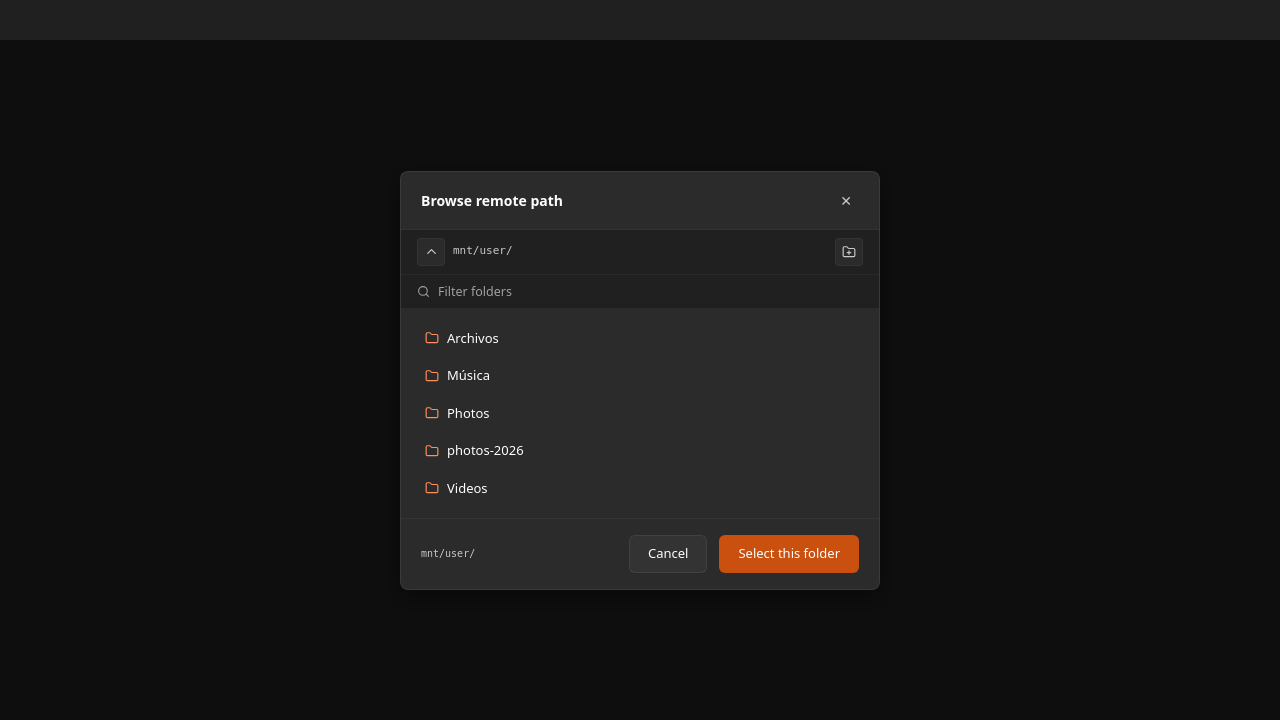
Test: filtering the folder picker › says so when nothing matches
Type "zzz" into the field with placeholder "Filter folders" at (650, 291), box top-left (438, 282), bottom-right (863, 300)
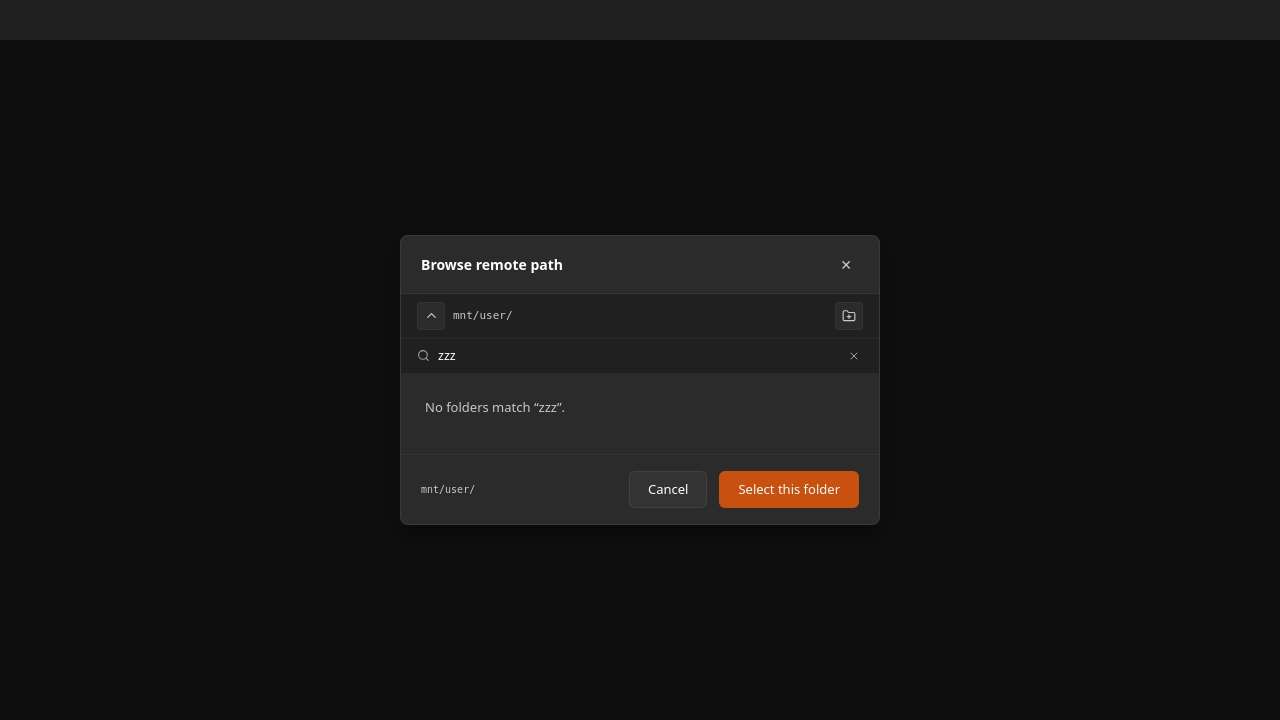
Expected: the text "No folders match “zzz”." is shown, top-left (425, 398), bottom-right (565, 416)
